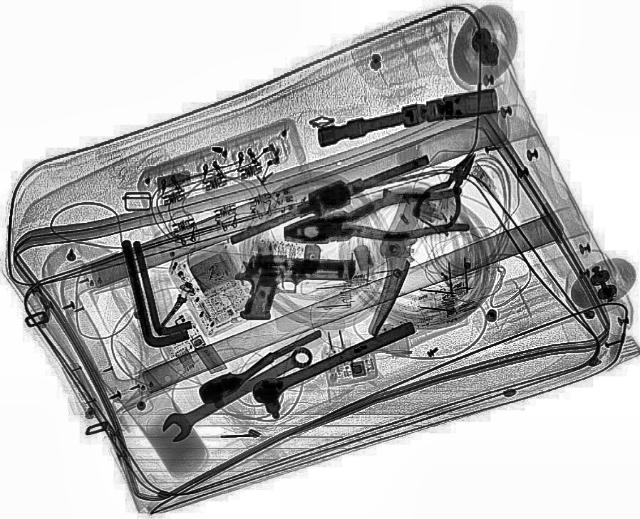Gun: (226, 251, 360, 324)
Pliers: (277, 187, 468, 255), (403, 144, 497, 234)
Wrench: (152, 340, 320, 446)
